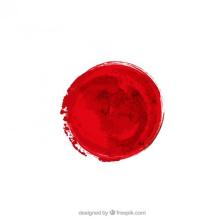red: (61, 62, 164, 162)
